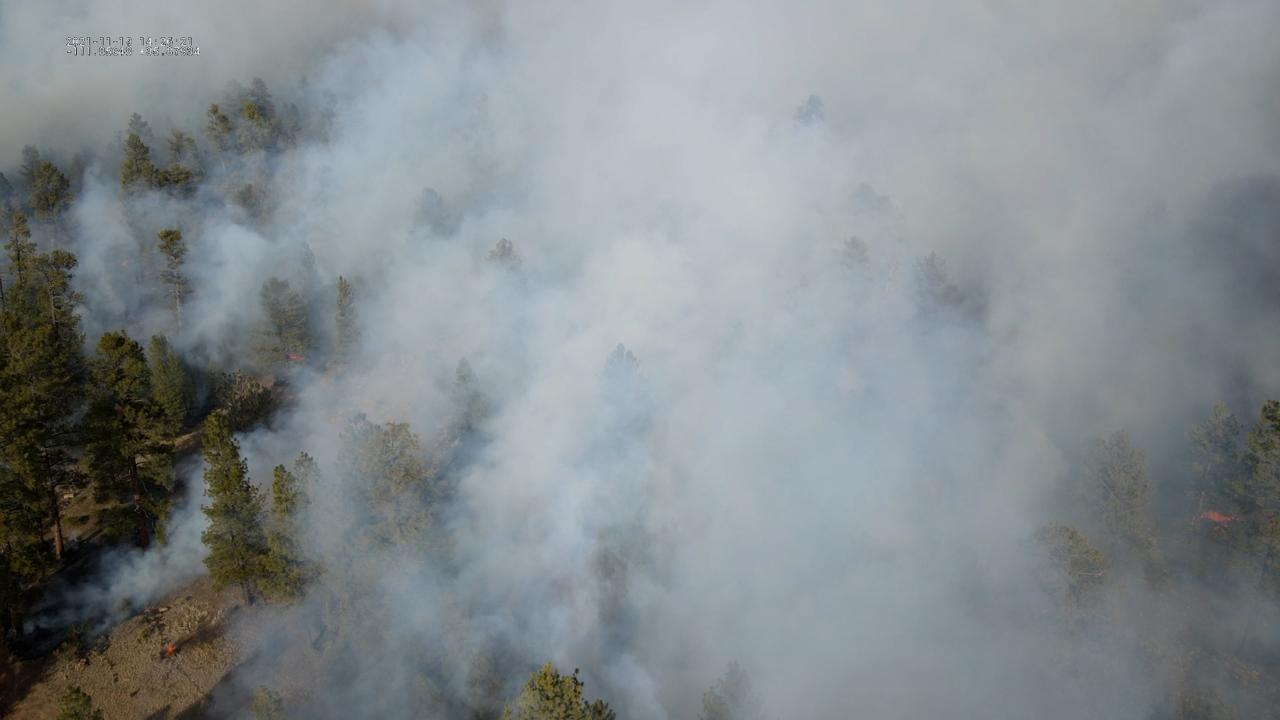fire: (1197, 508, 1236, 527), (162, 643, 178, 659), (286, 352, 307, 361)
smoke: (0, 0, 1280, 720)
